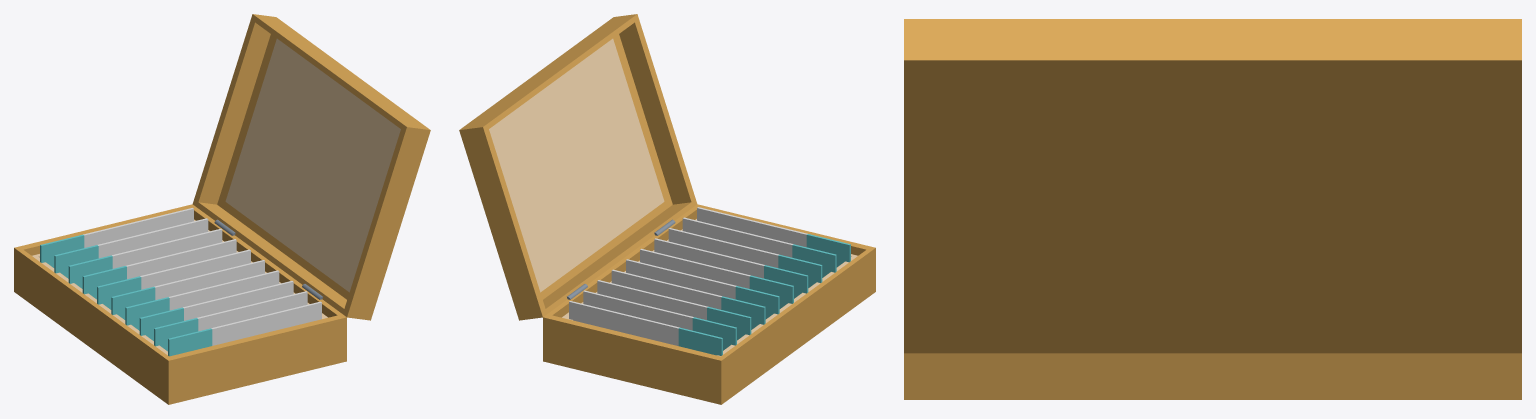
File: TieuBan.glb
The picture shows the model from 3 angles, left to right: view 1: azimuth 30°, elevation 25°; view 2: azimuth 150°, elevation 25°; view 3: azimuth 270°, elevation 25°; orthographic projection. The views are drawn at different scales.
Visible parts, largest first — view 1: Box, LamKinh, Box1, Box2; view 2: Box, LamKinh, Box1, Box2; view 3: Box, Box1.
Boxes of the visible parts, x1,y1,x2,y2 form: Box: (192,14,430,320); LamKinh: (40,208,321,356); Box1: (14,204,346,404); Box2: (32,219,327,355); Box: (459,14,697,320); LamKinh: (569,207,850,355); Box1: (543,204,875,404); Box2: (562,219,857,356); Box: (904,19,1521,353); Box1: (904,353,1521,399).
Size of the model in its own units: 0.147 by 0.1177 by 0.15.
